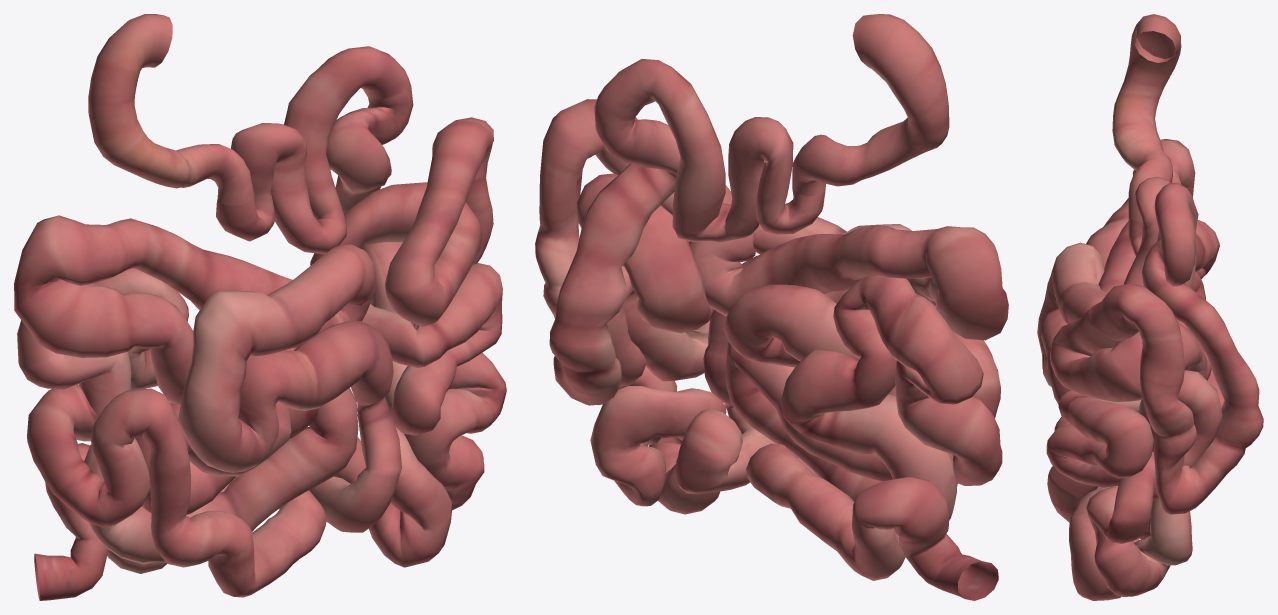
Rendered from 1.5 Small intgestine.glb.
3 renders of one model, left to right at view 1: azimuth 30°, elevation 25°; view 2: azimuth 150°, elevation 25°; view 3: azimuth 270°, elevation 25°, orthographic. The views are drawn at different scales.
Visible parts, largest first — view 1: Small_Intestine, Stomach_Duodenum; view 2: Small_Intestine, Stomach_Duodenum; view 3: Small_Intestine, Stomach_Duodenum.
Boxes of the visible parts, x1,y1,x2,y2 form: Small_Intestine: (14,46,506,600); Stomach_Duodenum: (88,14,254,205); Small_Intestine: (535,59,1008,600); Stomach_Duodenum: (792,14,949,196); Small_Intestine: (1037,139,1263,600); Stomach_Duodenum: (1112,14,1181,222).
Bounding box in the file's own units: 0.1905 × 0.2237 × 0.0941.
Materials: 1 (1 with a texture image).
